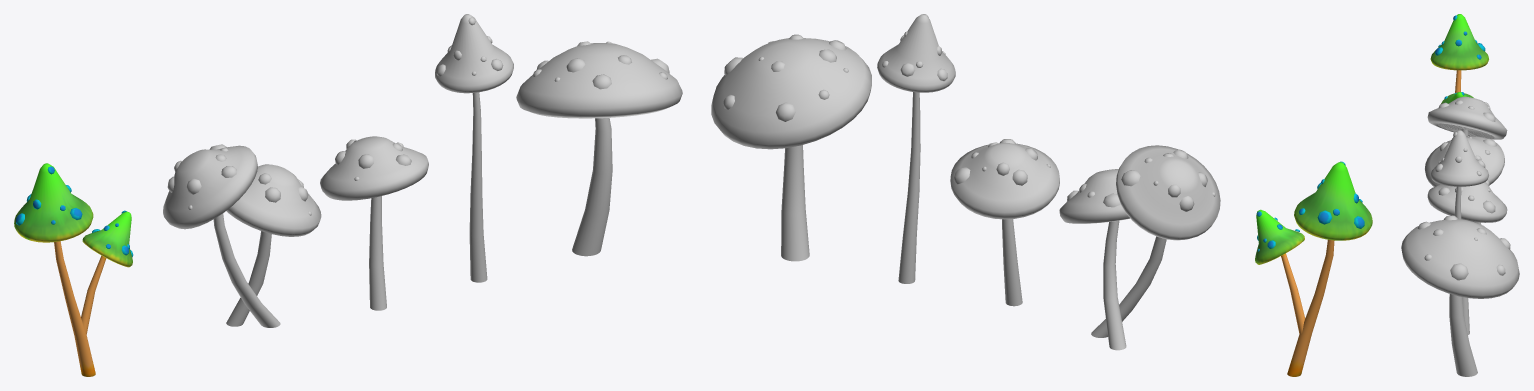
Rendered from cogumelos.fbx.
3 renders of one model, left to right at view 1: azimuth 30°, elevation 25°; view 2: azimuth 150°, elevation 25°; view 3: azimuth 270°, elevation 25°, orthographic. The views are drawn at different scales.
Parts seen in each view (by area): view 1: giant_mushroom.4, giant_mushroom.1, giant_mushroom.5, giant_mushroom.3, giant_mushroom.2; view 2: giant_mushroom.1, giant_mushroom.4, giant_mushroom.3, giant_mushroom.5, giant_mushroom.2; view 3: giant_mushroom.1, giant_mushroom.4, giant_mushroom.2, giant_mushroom.5, giant_mushroom.3.
Boxes of the visible parts, <box> form: giant_mushroom.4: <box>163,144,321,327</box>; giant_mushroom.1: <box>516,41,682,256</box>; giant_mushroom.5: <box>14,163,133,376</box>; giant_mushroom.3: <box>320,136,428,310</box>; giant_mushroom.2: <box>435,14,513,282</box>; giant_mushroom.1: <box>711,34,871,261</box>; giant_mushroom.4: <box>1059,145,1220,350</box>; giant_mushroom.3: <box>950,139,1059,306</box>; giant_mushroom.5: <box>1255,161,1372,376</box>; giant_mushroom.2: <box>877,14,955,283</box>; giant_mushroom.1: <box>1401,215,1519,376</box>; giant_mushroom.4: <box>1425,96,1507,224</box>; giant_mushroom.2: <box>1430,130,1488,334</box>; giant_mushroom.5: <box>1430,14,1488,103</box>; giant_mushroom.3: <box>1427,180,1507,222</box>.
Bounding box in the file's own units: 3776 × 1491 × 810.
